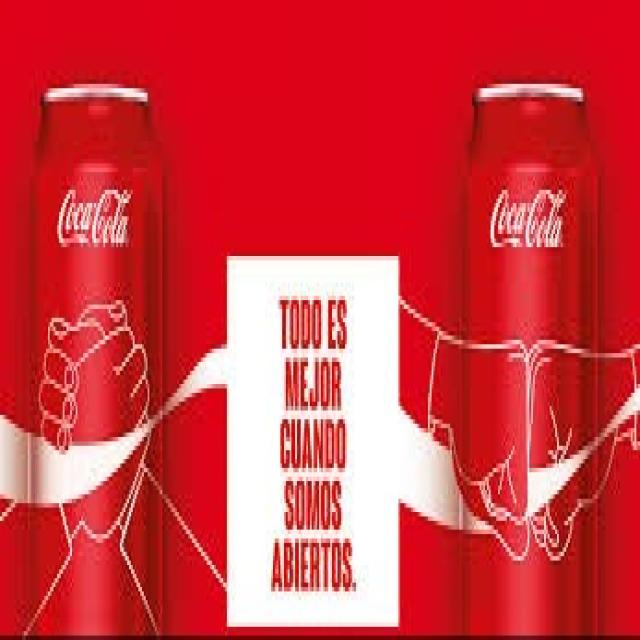coca cola: (488, 174, 571, 266)
